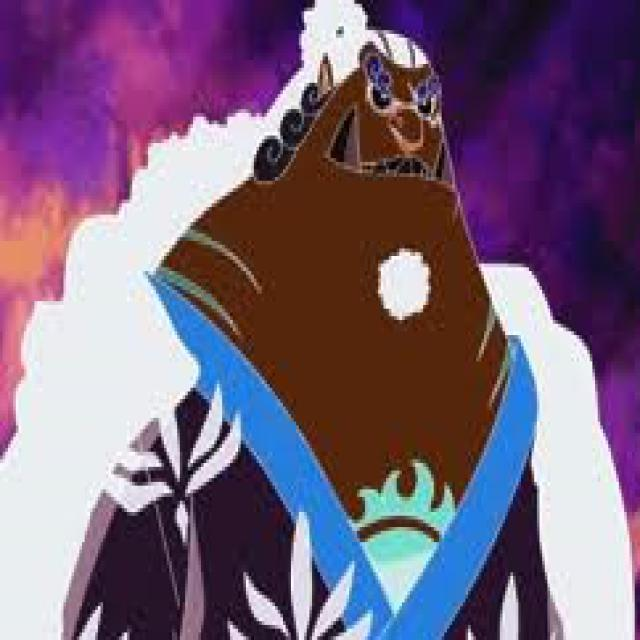Jinbe: (0, 0, 637, 640)
